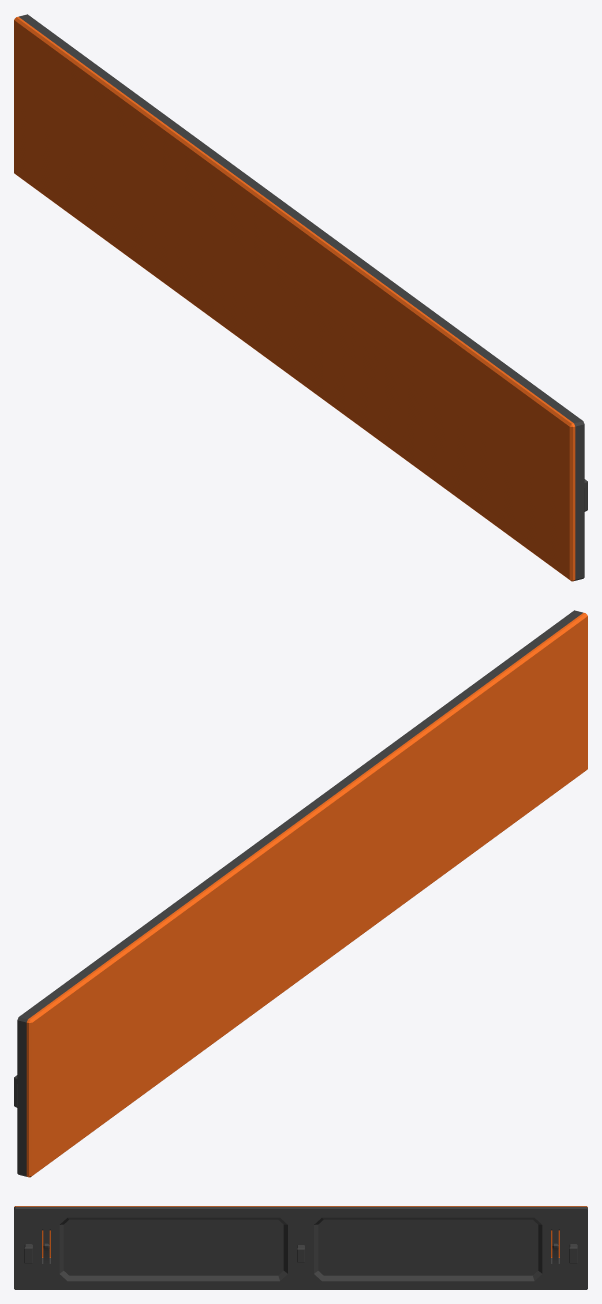
File: SideCover_185-05H.lib.glb
3 renders of one model, top to bottom at view 1: azimuth 30°, elevation 25°; view 2: azimuth 150°, elevation 25°; view 3: azimuth 270°, elevation 25°, orthographic. The views are drawn at different scales.
Parts seen in each view (by area): view 1: SideCover_185-05H; view 2: SideCover_185-05H; view 3: SideCover_185-05H.
Boxes of the visible parts, x1,y1,x2,y2 form: SideCover_185-05H: [14, 14, 587, 581]; SideCover_185-05H: [14, 610, 587, 1177]; SideCover_185-05H: [14, 1206, 587, 1289].
Bounding box in the file's own units: 5.06 × 27.59 × 177.
